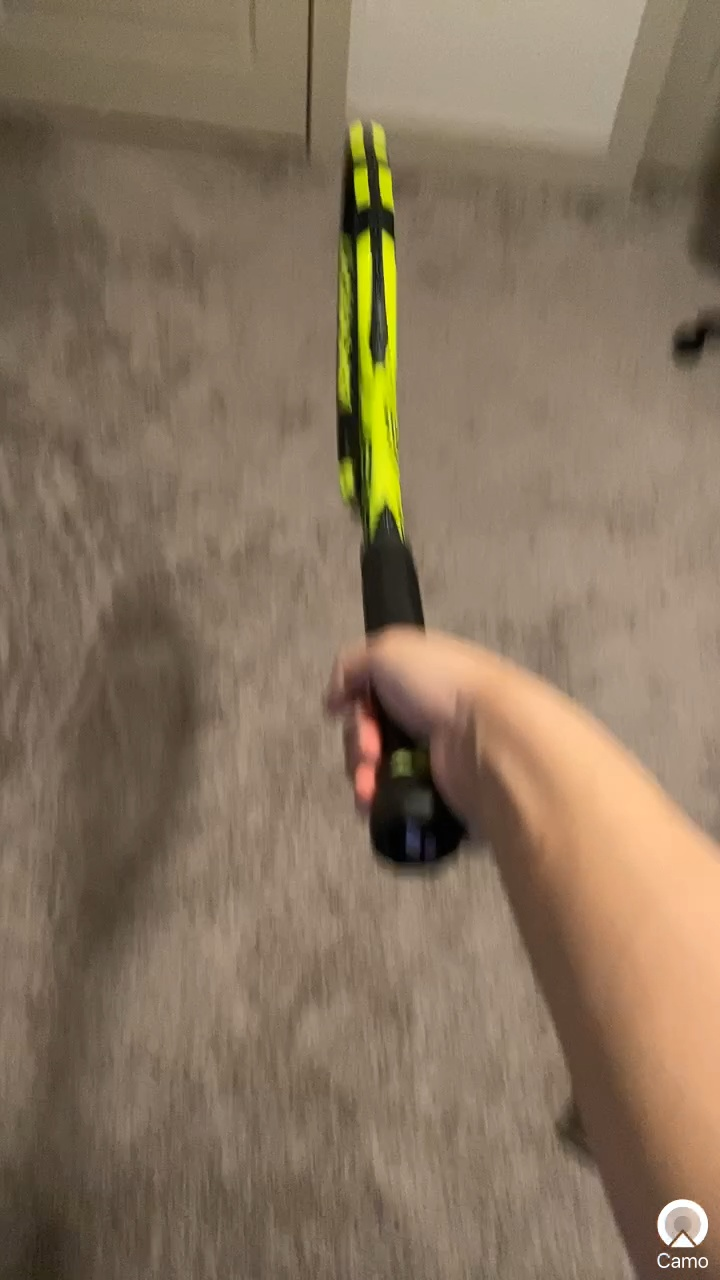Tennis_Racquet: (262, 87, 533, 887)
